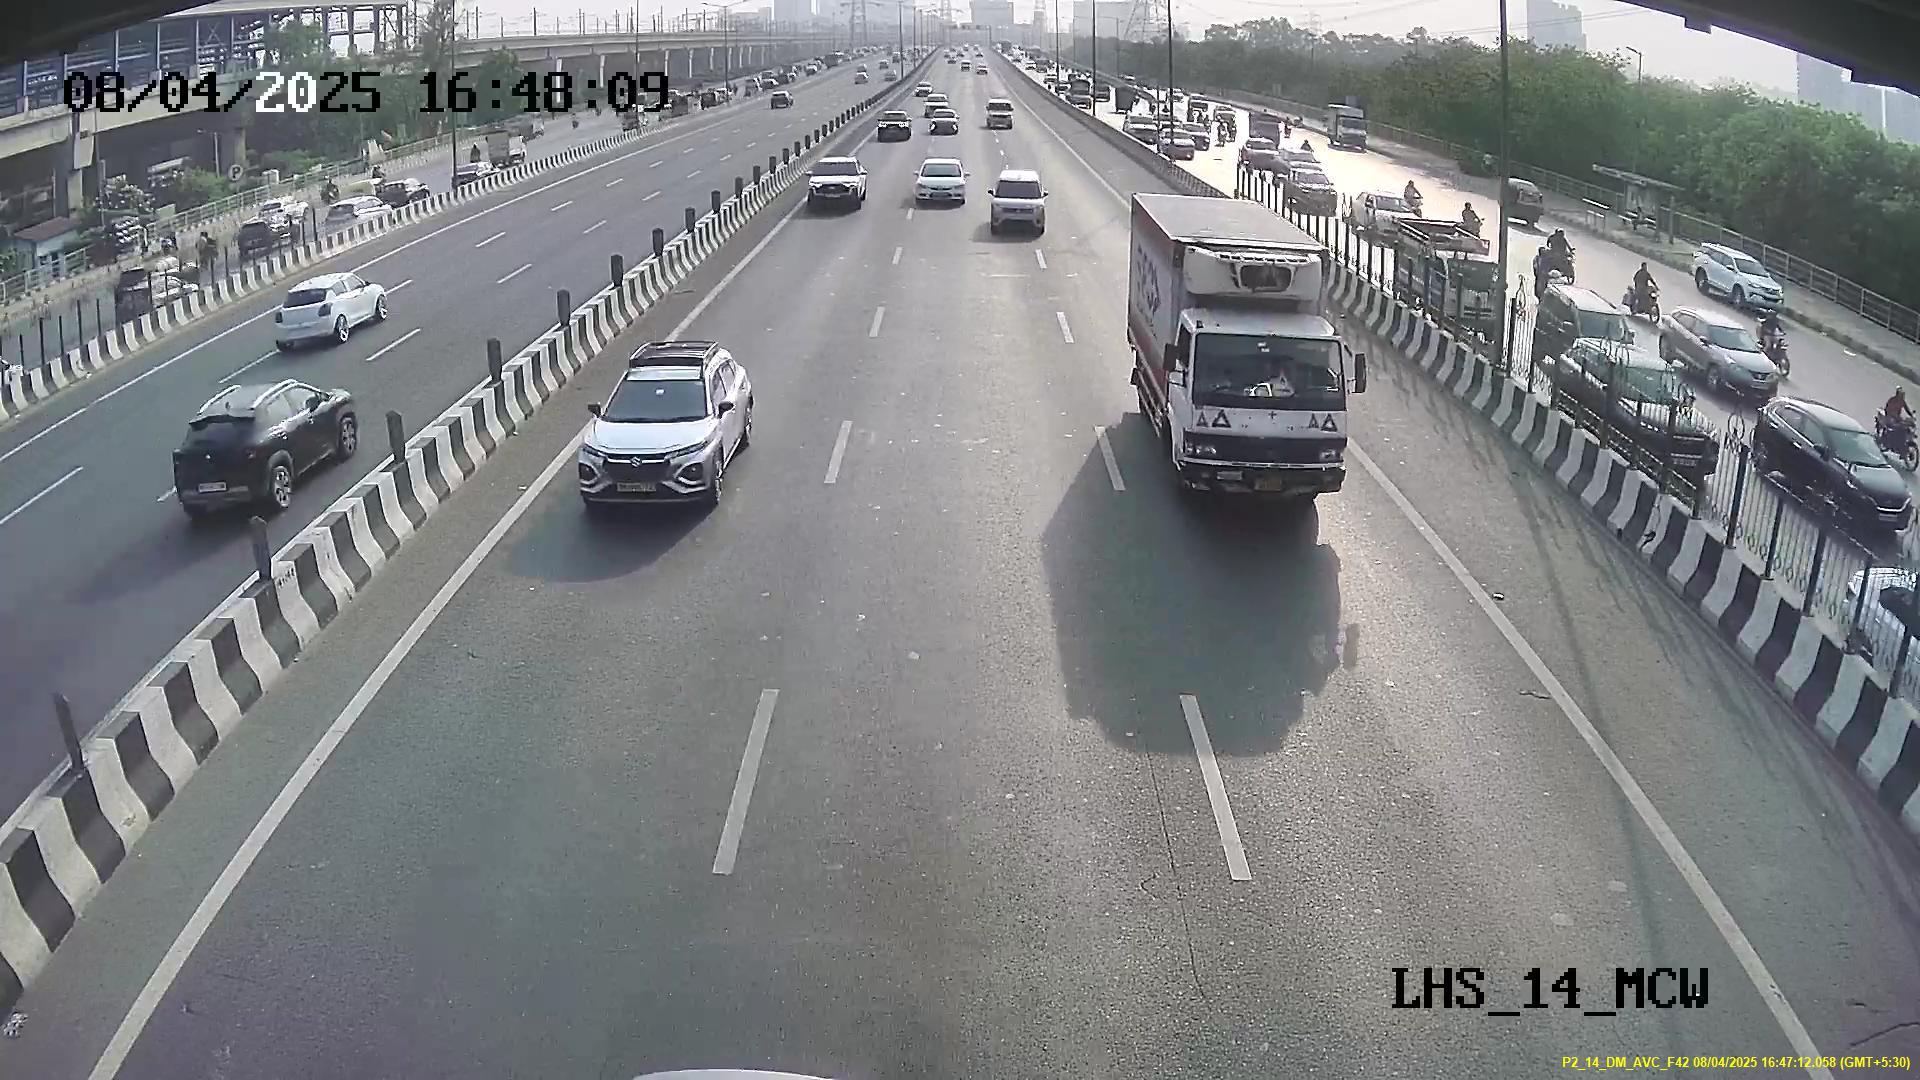car: (574, 355, 735, 510)
lcv: (1164, 313, 1353, 504)
